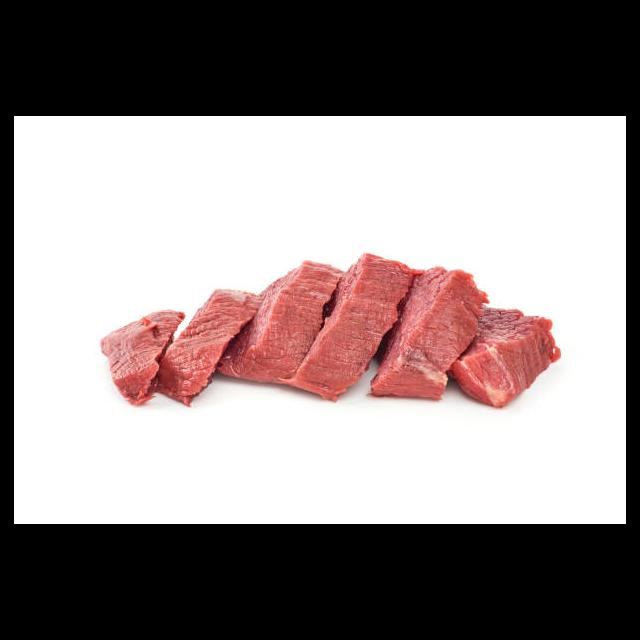beef: (101, 253, 564, 410)
